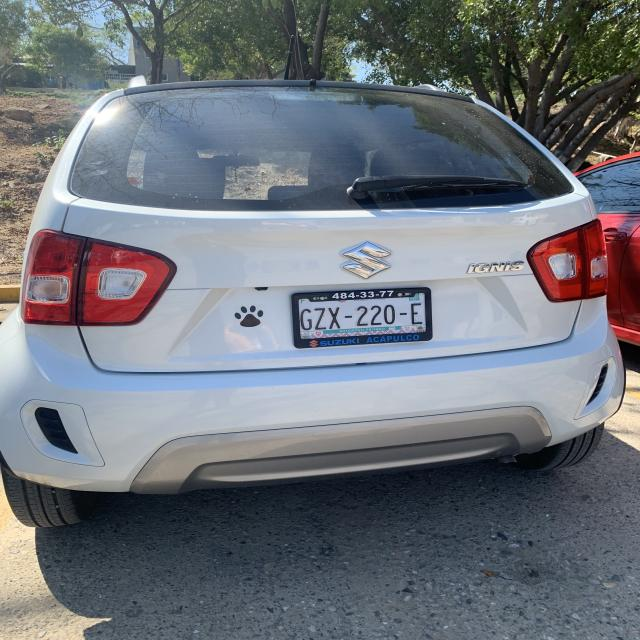placa: (294, 301, 428, 328)
